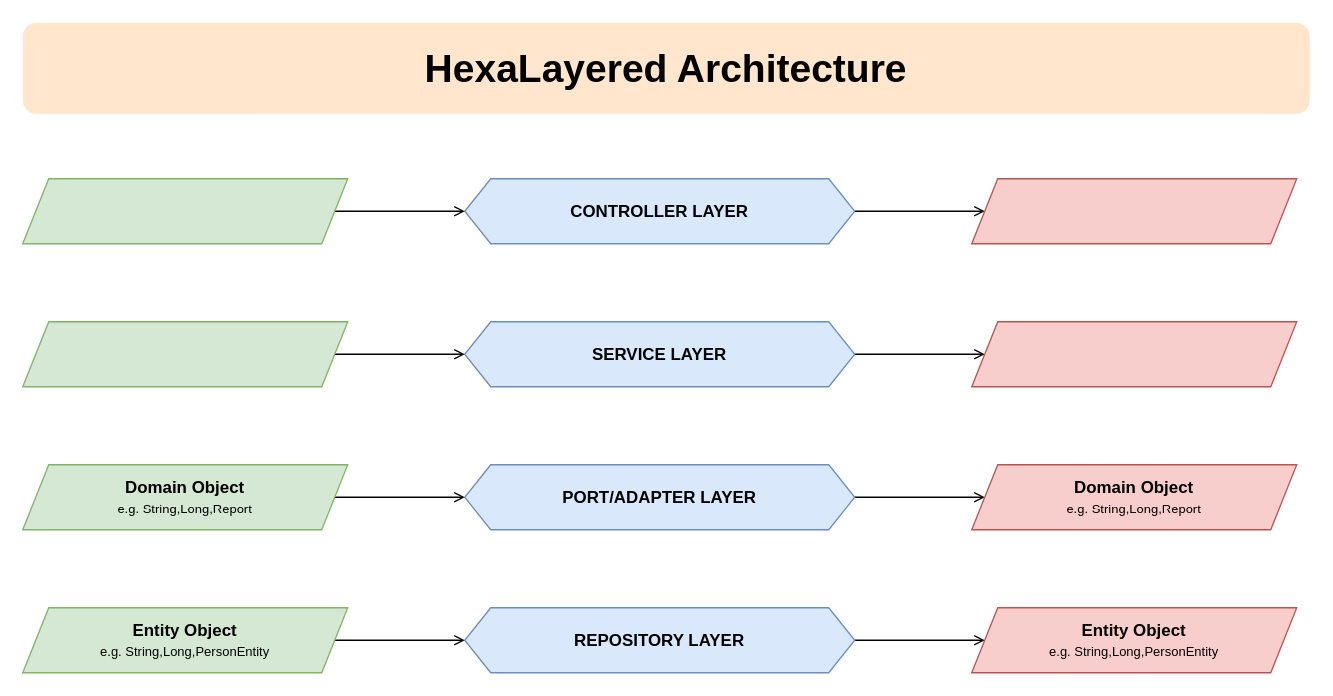
The diagram is 1333 pixels wide and 696 high, and some of its shapes have lost their labels. Here are the shapes that lost their labels. From the top down, the centre of each, then its label:
At point 184,210: "Request Object e.g. ReportCreateRequest".
At point 1133,210: "Response Object e.g. ReportResponse".
At point 184,353: "Request Object e.g. String,PersonCreateRequest".
At point 1133,353: "Domain Object e.g. String,Long,Person".
